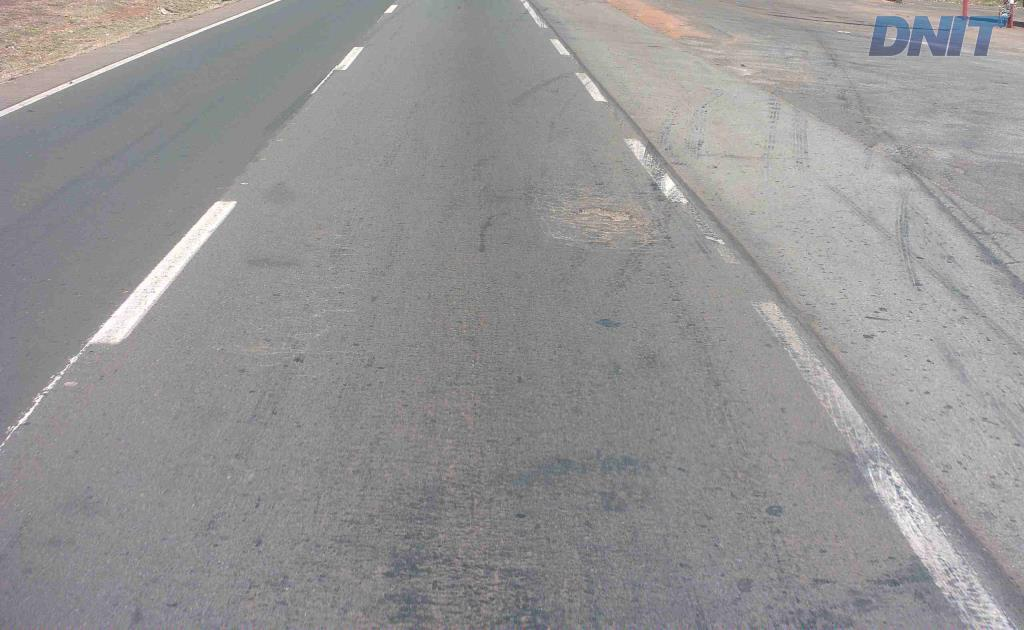pothole: (578, 206, 631, 222)
